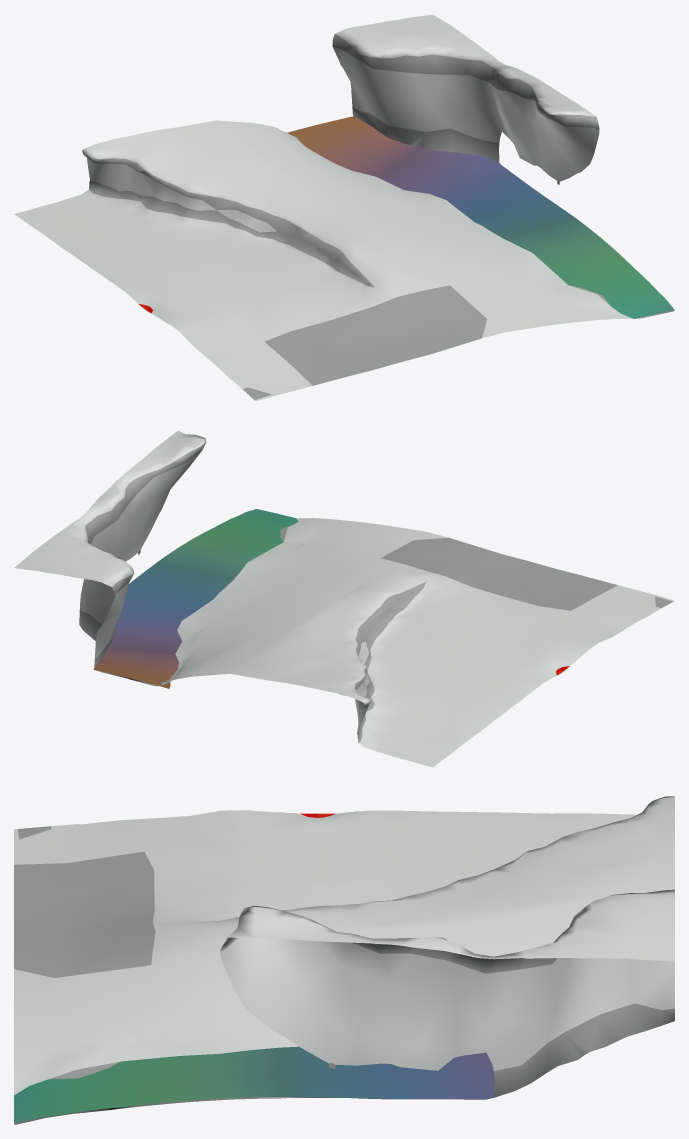
3 renders of one model, top to bottom at view 1: azimuth 30°, elevation 25°; view 2: azimuth 150°, elevation 25°; view 3: azimuth 270°, elevation 25°, orthographic. The views are drawn at different scales.
Visible parts, largest first — view 1: G:\FFXIV-MapTools\exports\r2f1\bg\ex1\01_roc_r2\fld\r2f1\bgp (×6); view 2: G:\FFXIV-MapTools\exports\r2f1\bg\ex1\01_roc_r2\fld\r2f1\bgp (×6); view 3: G:\FFXIV-MapTools\exports\r2f1\bg\ex1\01_roc_r2\fld\r2f1\bgp (×8).
Boxes of the visible parts, x1,y1,x2,y2 form: G:\FFXIV-MapTools\exports\r2f1\bg\ex1\01_roc_r2\fld\r2f1\bgp (×6): (14,14,674,401); G:\FFXIV-MapTools\exports\r2f1\bg\ex1\01_roc_r2\fld\r2f1\bgp (×6): (14,430,674,767); G:\FFXIV-MapTools\exports\r2f1\bg\ex1\01_roc_r2\fld\r2f1\bgp (×8): (14,796,674,1124).
Size of the model in its own units: 128 by 41.5 by 128.
